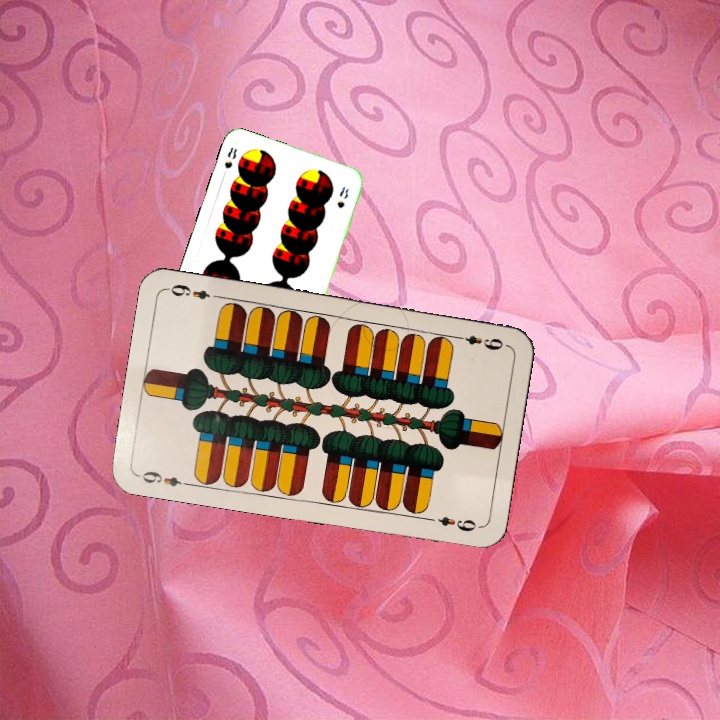E9: (450, 331, 509, 353), (135, 467, 193, 489)
S8: (220, 143, 240, 171)
